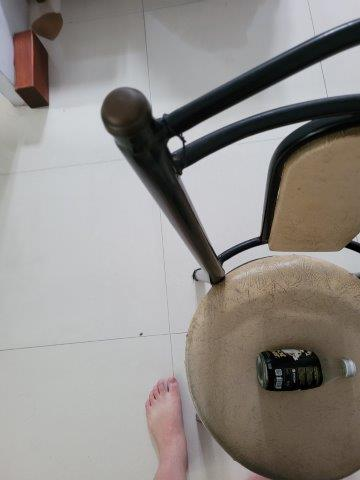botolkaca: (256, 351, 356, 390)
